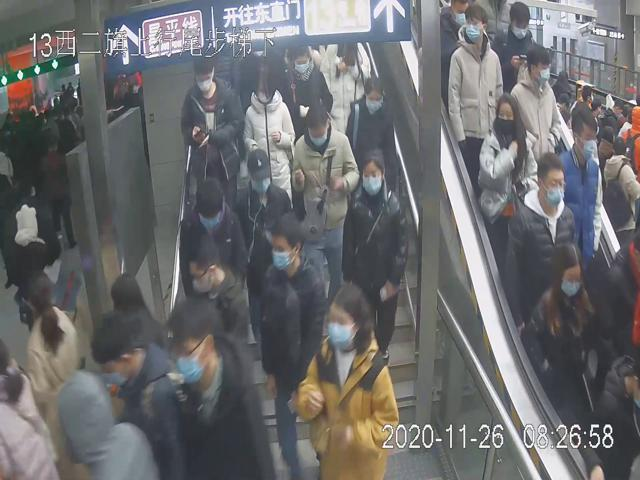person: (296, 276, 399, 477), (261, 205, 327, 480), (288, 103, 363, 321), (340, 145, 410, 360), (521, 244, 603, 423), (504, 151, 579, 332), (232, 147, 289, 360), (445, 2, 508, 166), (477, 90, 538, 249), (177, 51, 243, 192), (240, 62, 298, 215), (174, 177, 245, 296), (345, 75, 402, 188), (278, 44, 334, 138)
